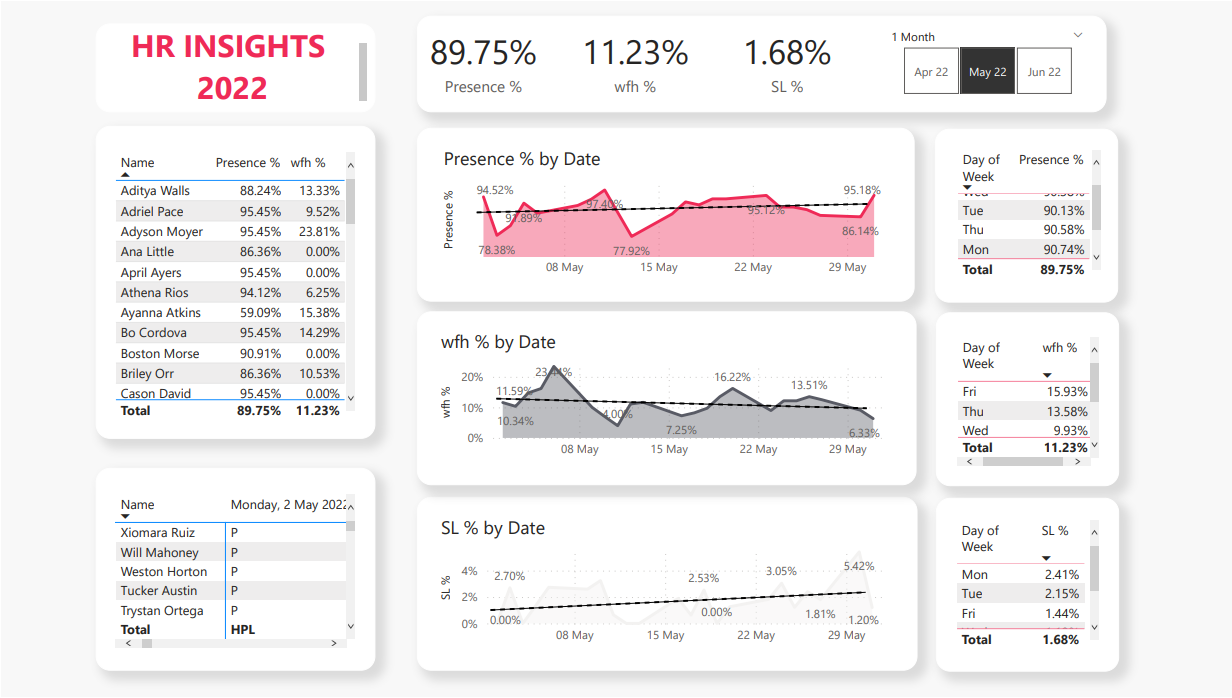

What the dashboard file says about the page in this screenshot:
{"tool":"powerbi","page":{"name":"HR Overview","canvas":[1280,720],"ordinal":0},"visuals":[{"type":"slicer","fields":{"Values":["Final Data.1 Month"]},"box":[807.7,0,420.3,78.3],"z":0},{"type":"card","fields":{"Values":["Present Days.Presence %"]},"box":[0,58.2,173.3,85.5],"z":1000},{"type":"card","fields":{"Values":["Present Days.wfh %"]},"box":[141.2,58.2,166.2,84.3],"z":2000},{"type":"card","fields":{"Values":["Present Days.SL %"]},"box":[299.1,58.2,128.2,84.3],"z":3000},{"type":"tableEx","fields":{"Values":["Final Data.Name","Present Days.Presence %","Present Days.wfh %"]},"box":[52.5,143.8,350,358.8],"z":4000},{"type":"pivotTable","fields":{"Rows":["Final Data.Name"],"Values":["Min(Final Data.Value)"],"Columns":["Final Data.Date"]},"box":[52.5,557.5,343.8,162.5],"z":5000},{"type":"textbox","box":[52.5,0,427.5,62.5],"z":6000},{"type":"areaChart","fields":{"Category":["Final Data.Date"],"Y":["Present Days.Presence %"]},"box":[427.3,102.1,658.8,191.1],"z":7000},{"type":"areaChart","fields":{"Category":["Final Data.Date"],"Y":["Present Days.wfh %"]},"box":[427.3,311,658.8,191.1],"z":8000},{"type":"areaChart","fields":{"Category":["Final Data.Date"],"Y":["Present Days.SL %"]},"box":[427.3,530.6,658.8,189.9],"z":9000},{"type":"tableEx","fields":{"Values":["Final Data.Day of Week","Present Days.Presence %"]},"box":[1086.1,103.3,175.7,191.1],"z":10000},{"type":"tableEx","fields":{"Values":["Final Data.Day of Week","Present Days.wfh %"]},"box":[1086.1,322.9,175.7,199.4],"z":11000},{"type":"tableEx","fields":{"Values":["Final Data.Day of Week","Present Days.SL %"]},"box":[1086.1,521.1,175.7,199.4],"z":12000}]}

Visuals, with their boxes in screenshot pixels (x1, y1, x2, y2), scaled from the page's 1280x720 canvas onto the 1232x698 screenshot:
slicer - Final Data.1 Month: box=[777, 0, 1182, 76]
card - Present Days.Presence %: box=[0, 56, 167, 139]
card - Present Days.wfh %: box=[136, 56, 296, 138]
card - Present Days.SL %: box=[288, 56, 411, 138]
tableEx - Final Data.Name x Present Days.Presence %: box=[51, 139, 387, 487]
pivotTable - Final Data.Name x Min(Final Data.Value): box=[51, 540, 381, 697]
textbox: box=[51, 0, 462, 61]
areaChart - Final Data.Date x Present Days.Presence %: box=[411, 99, 1045, 284]
areaChart - Final Data.Date x Present Days.wfh %: box=[411, 301, 1045, 487]
areaChart - Final Data.Date x Present Days.SL %: box=[411, 514, 1045, 697]
tableEx - Final Data.Day of Week x Present Days.Presence %: box=[1045, 100, 1214, 285]
tableEx - Final Data.Day of Week x Present Days.wfh %: box=[1045, 313, 1214, 506]
tableEx - Final Data.Day of Week x Present Days.SL %: box=[1045, 505, 1214, 697]
